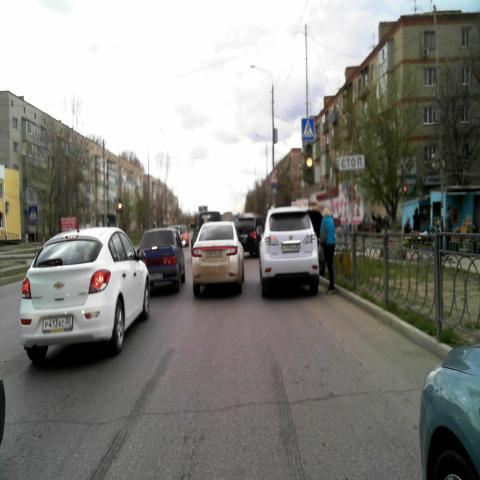5_19_1: (301, 116, 315, 140), (28, 205, 38, 221)
6_16: (338, 155, 365, 170)
